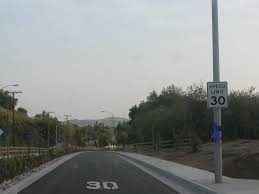speedLimit30: (205, 80, 230, 109)
